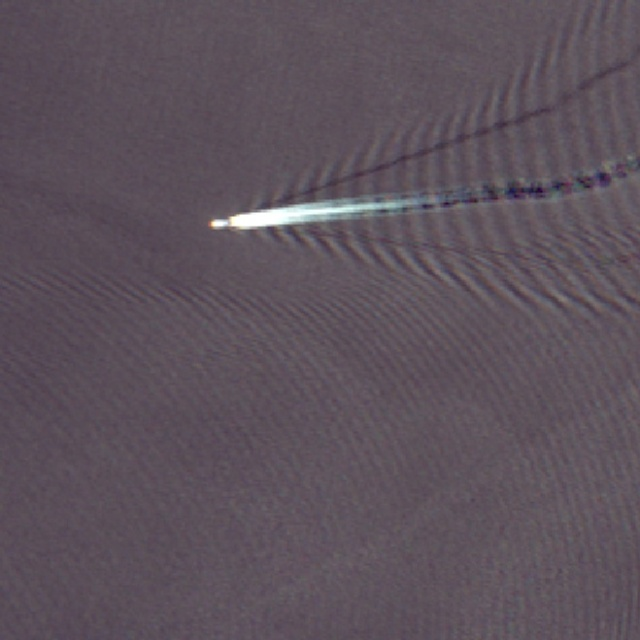wake: (200, 106, 546, 308)
